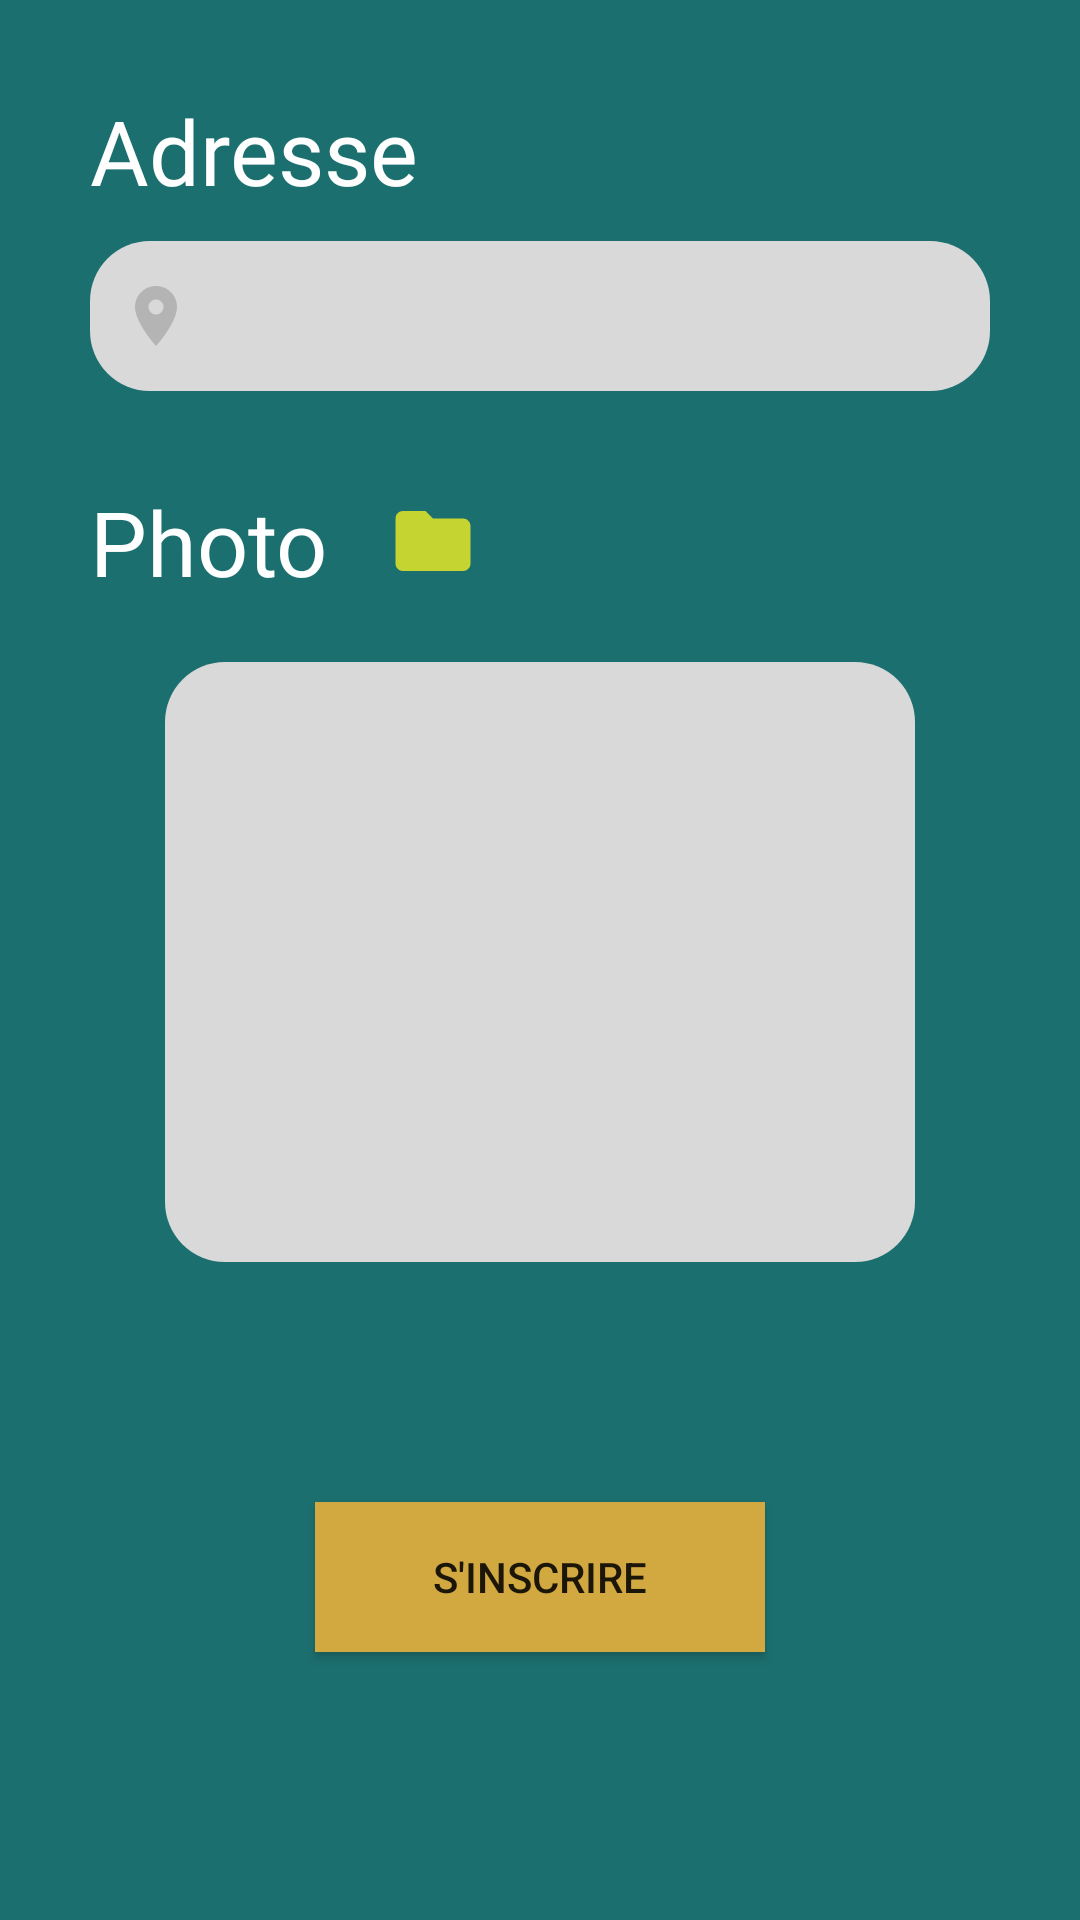

Icon click points for this 1080×1920 phone screenshot, format point (x, y):
folder: point (433, 541)
